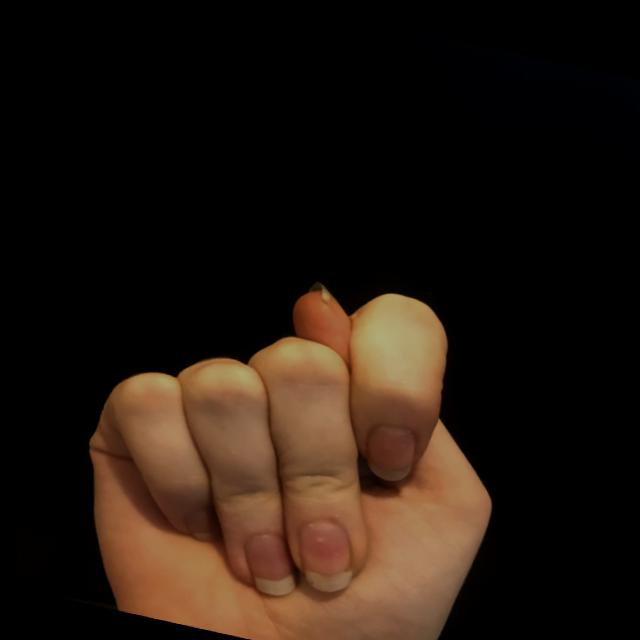T: (43, 220, 538, 639)
